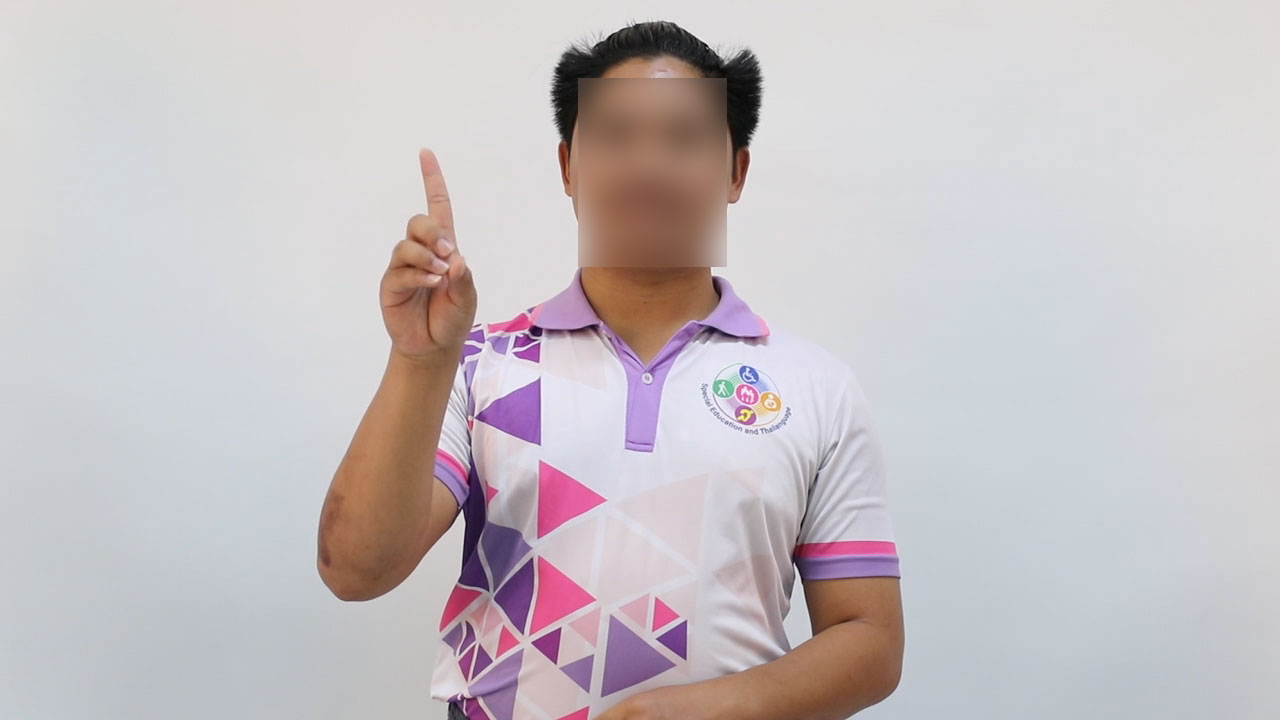dor: (357, 140, 492, 368)
